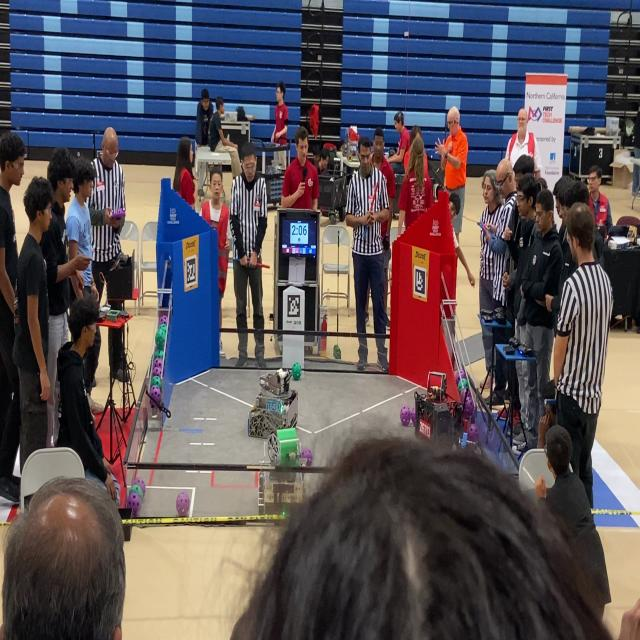artifact_green: (127, 492, 141, 517), (149, 386, 161, 406), (291, 362, 302, 381), (134, 477, 145, 495), (130, 485, 143, 500), (155, 330, 165, 347), (151, 376, 162, 389), (458, 379, 468, 393), (159, 314, 168, 325), (334, 345, 341, 359), (154, 349, 163, 359), (159, 326, 166, 338), (159, 325, 167, 335)
artifact_purple: (176, 492, 190, 517), (127, 492, 141, 517), (463, 393, 474, 419), (301, 448, 313, 466), (150, 386, 161, 405), (400, 406, 410, 426), (134, 477, 145, 495), (461, 388, 471, 407), (468, 424, 478, 442), (112, 208, 125, 220), (458, 378, 468, 393), (455, 370, 465, 384), (153, 362, 162, 376), (154, 358, 163, 370), (159, 315, 168, 325), (411, 408, 415, 426)
